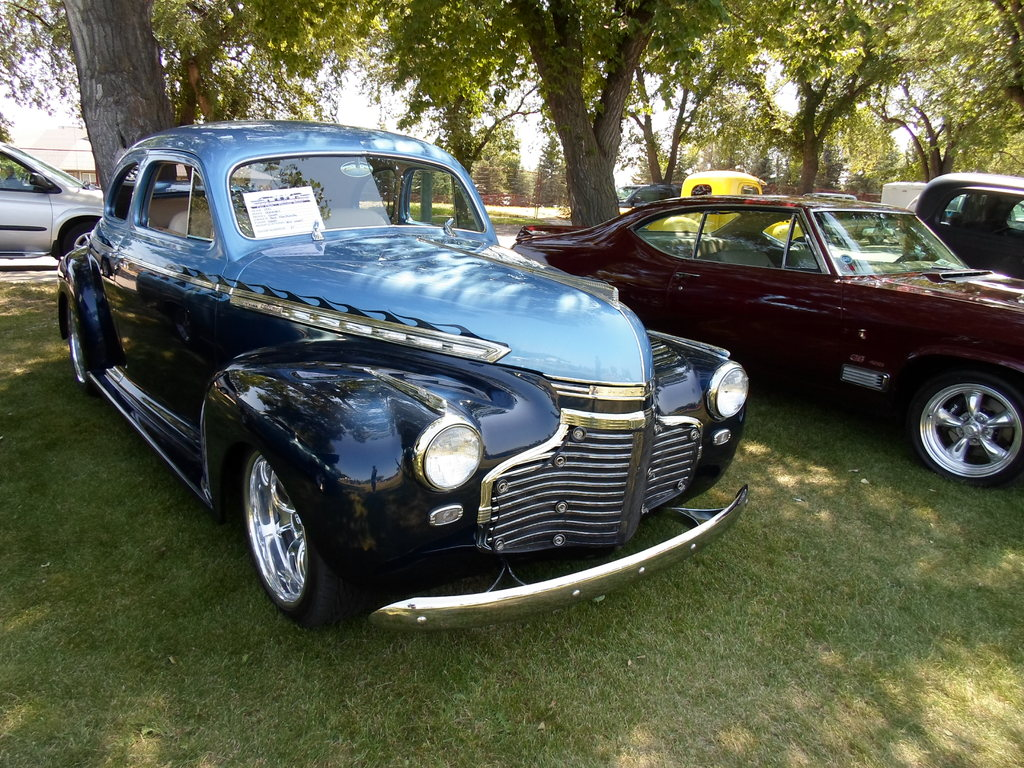mobil: (56, 117, 768, 651)
